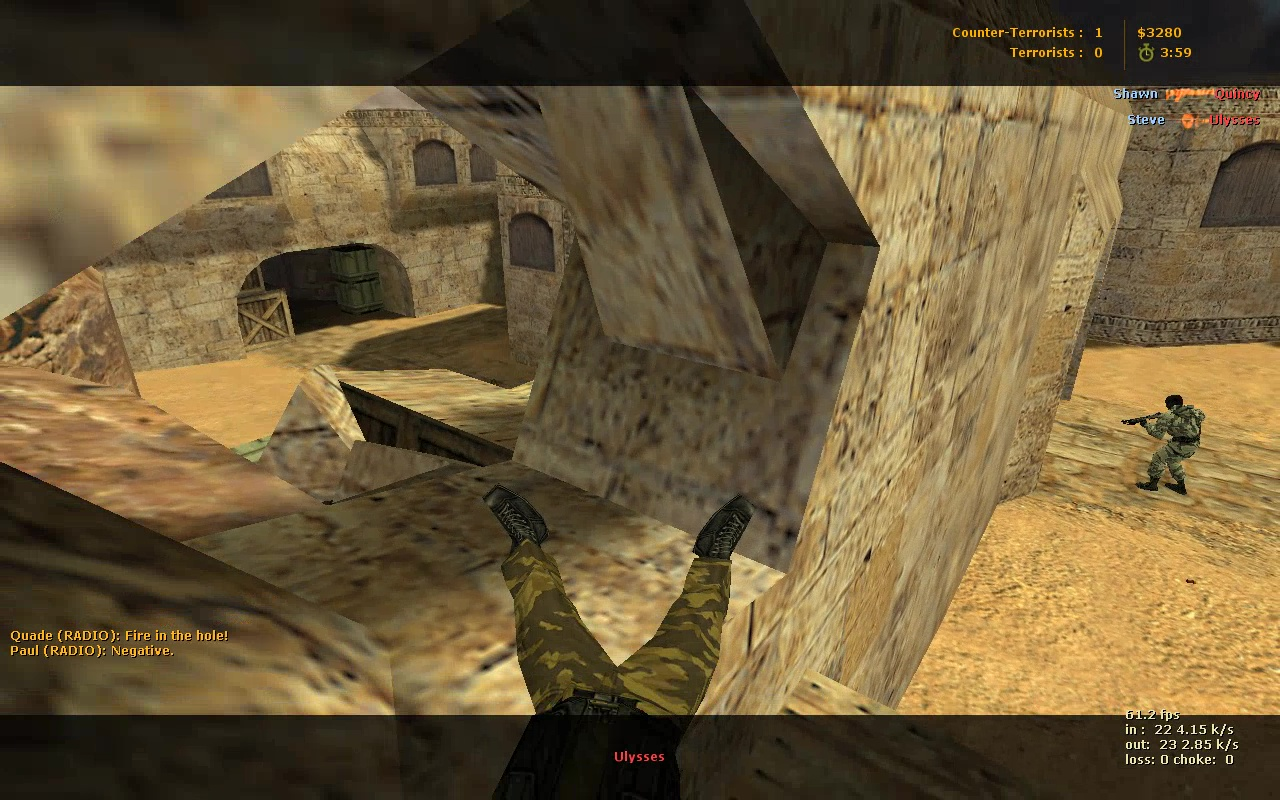terr2: (1138, 393, 1211, 496)
